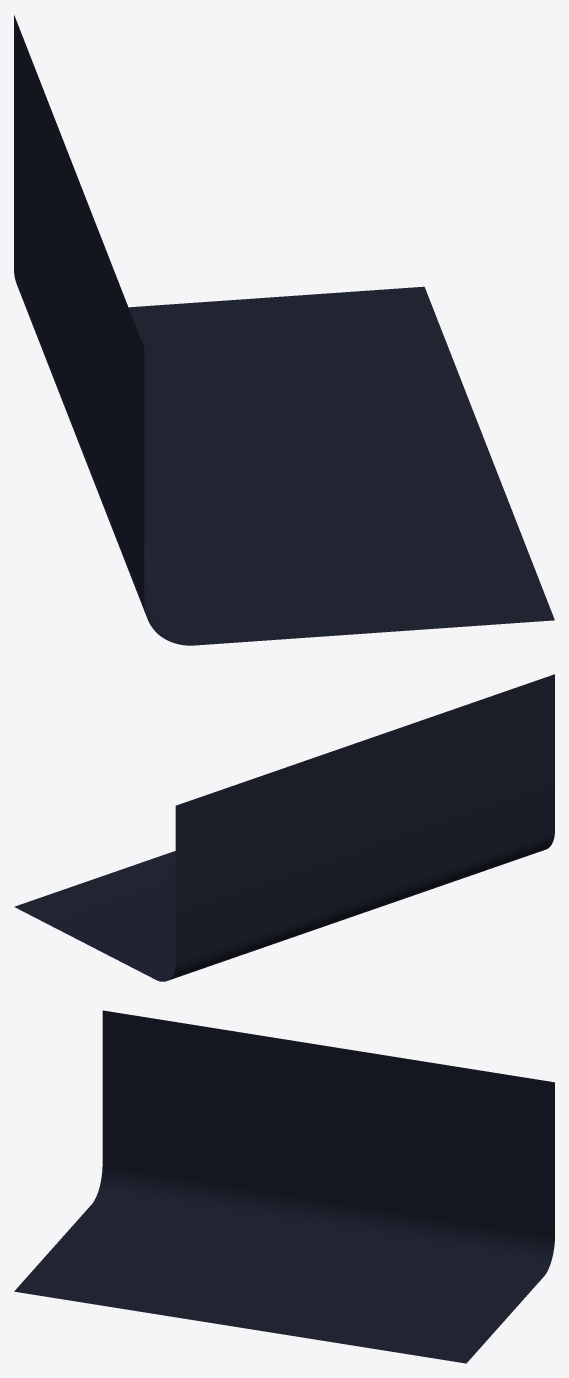
The model's file is Stage.FBX.
The picture shows the model from 3 angles, top to bottom: view 1: azimuth 30°, elevation 25°; view 2: azimuth 150°, elevation 25°; view 3: azimuth 270°, elevation 25°; orthographic projection. The views are drawn at different scales.
Visible parts, largest first — view 1: Plane001; view 2: Plane001; view 3: Plane001.
Boxes of the visible parts, x1,y1,x2,y2 form: Plane001: (14,15,554,645); Plane001: (14,674,554,981); Plane001: (14,1010,554,1363).
Size of the model in its own units: 6.88 by 3.4 by 9.17.
